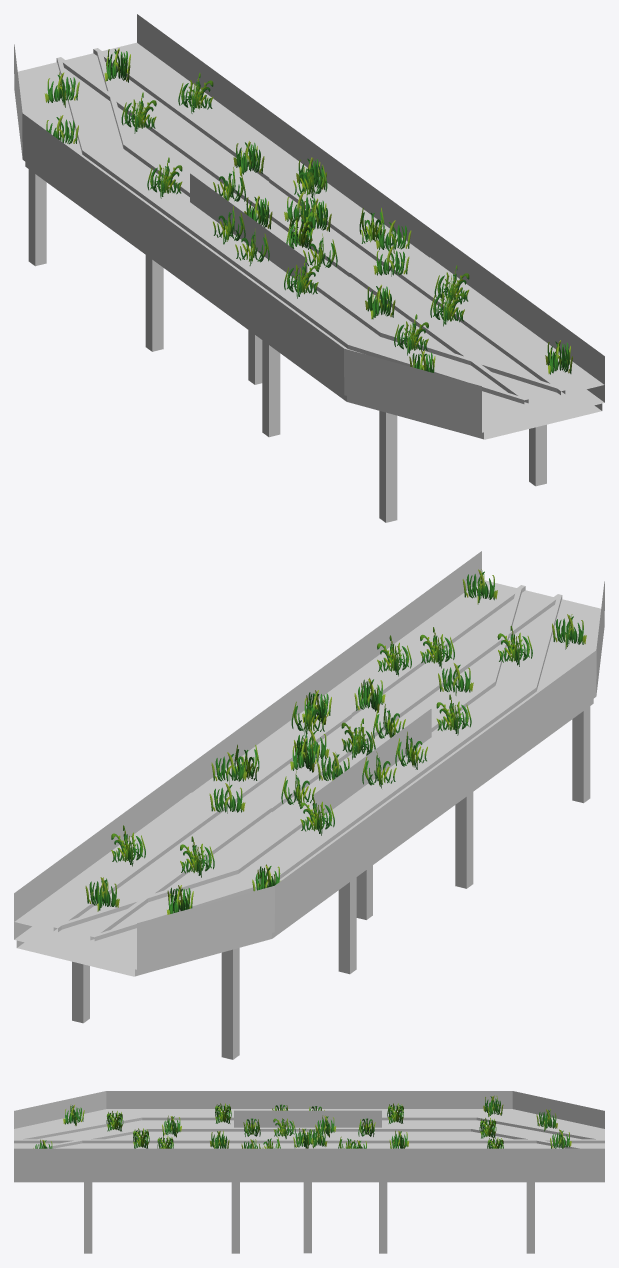
Rendered from Highlinepark.fbx.
The picture shows the model from 3 angles, top to bottom: view 1: azimuth 30°, elevation 25°; view 2: azimuth 150°, elevation 25°; view 3: azimuth 270°, elevation 25°; orthographic projection. The views are drawn at different scales.
Visible parts, largest first — view 1: Highlinepark_01, Highlinepark_02; view 2: Highlinepark_01, Highlinepark_02; view 3: Highlinepark_01, Highlinepark_02.
Part boxes in pixels (<box>): Highlinepark_01: <box>14,14,604,522</box>; Highlinepark_02: <box>190,143,429,384</box>; Highlinepark_01: <box>14,551,604,1059</box>; Highlinepark_02: <box>191,679,431,919</box>; Highlinepark_01: <box>14,1091,604,1253</box>; Highlinepark_02: <box>234,1110,381,1253</box>.
Size of the model in its own units: 449 by 398 by 1936.
Materials: 4 (3 with a texture image).
